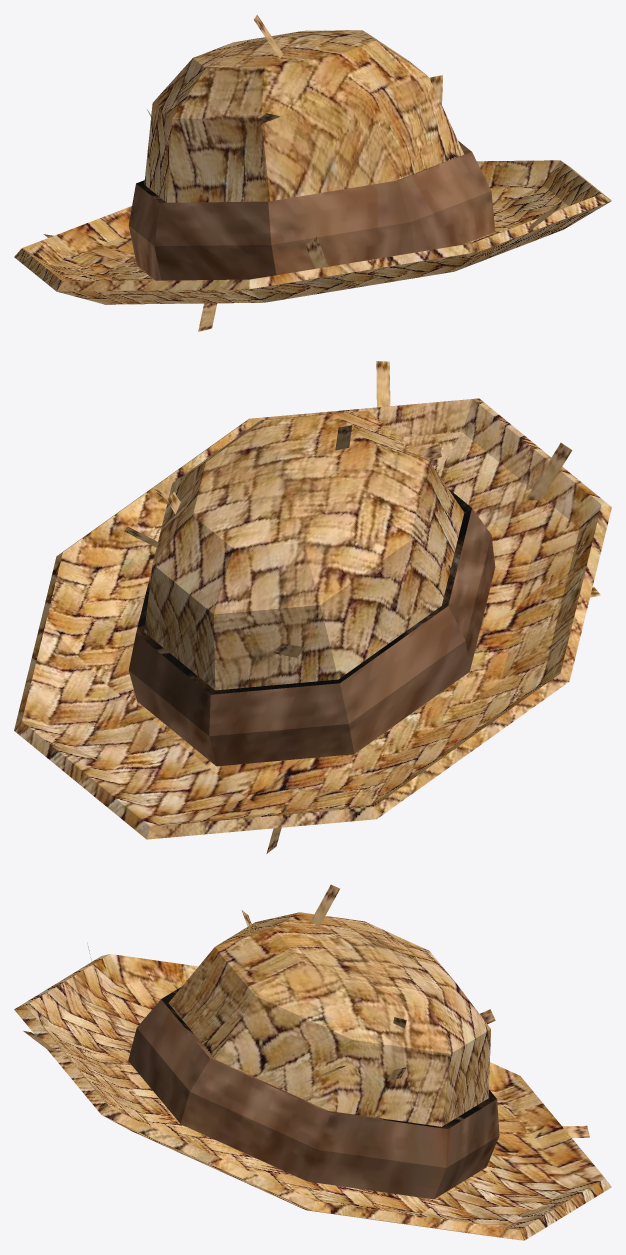
The model's file is SLOMIANY_KAP1.glb.
The picture shows the model from 3 angles, top to bottom: view 1: azimuth 30°, elevation 25°; view 2: azimuth 150°, elevation 25°; view 3: azimuth 270°, elevation 25°; orthographic projection. The views are drawn at different scales.
Parts seen in each view (by area): view 1: SLOMIANY_KAP1; view 2: SLOMIANY_KAP1; view 3: SLOMIANY_KAP1.
Part boxes in pixels (bbox=[...]): SLOMIANY_KAP1: bbox=[14, 15, 611, 331]; SLOMIANY_KAP1: bbox=[14, 361, 611, 853]; SLOMIANY_KAP1: bbox=[14, 884, 611, 1240].
Size of the model in its own units: 0.3533 by 0.2084 by 0.3967.
Materials: 2 (2 with a texture image).
